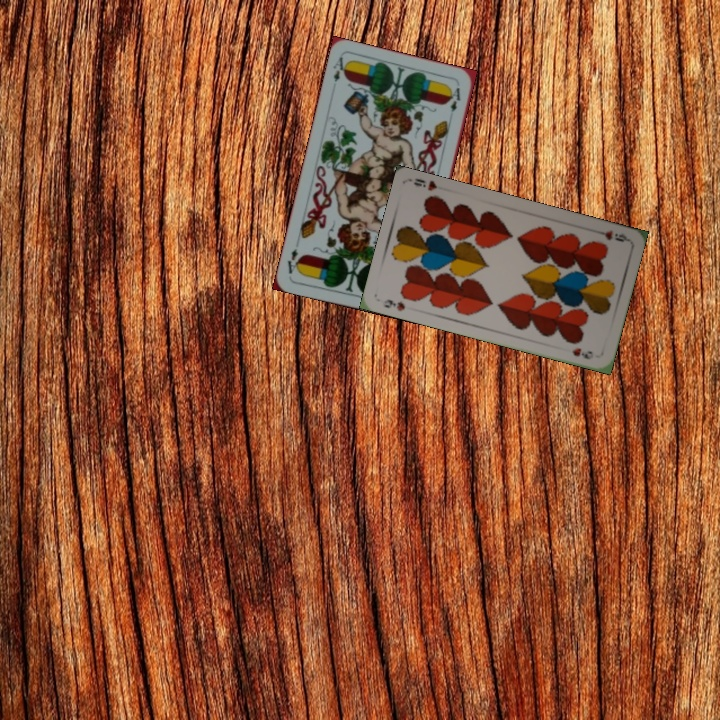EA: (329, 53, 350, 84)
H9: (590, 225, 630, 244), (380, 295, 408, 314)
